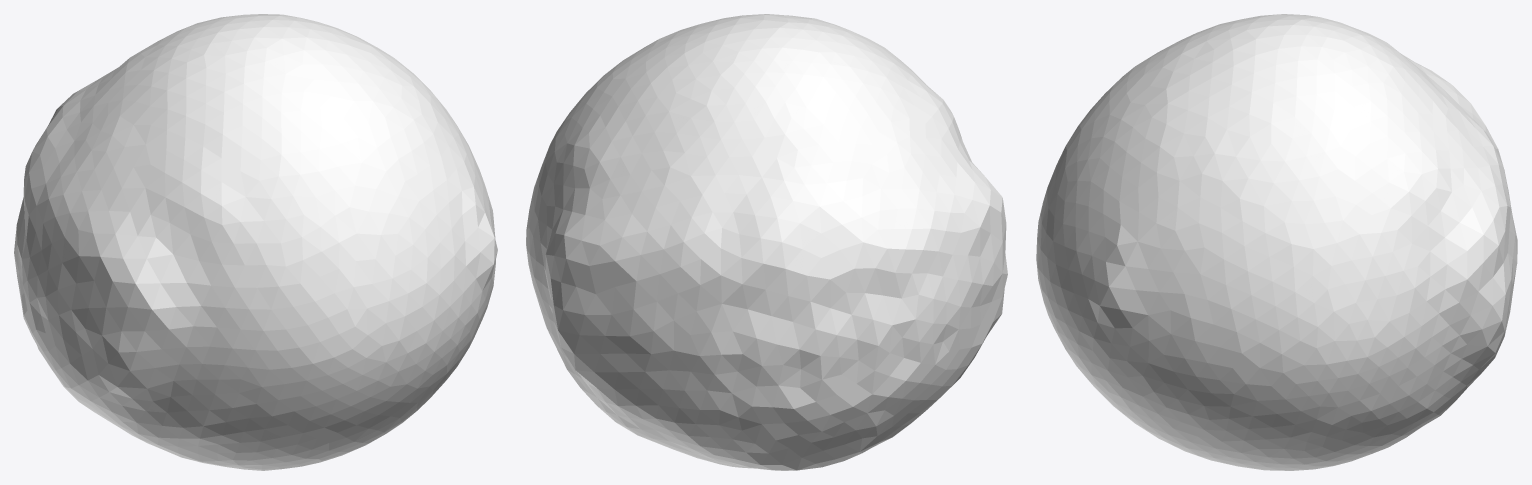
The model's file is plane_rotZ45[0.3,0.0,0.3]s1[-1.7,0.0,-1.7]_00010.obj.
The picture shows the model from 3 angles, left to right: view 1: azimuth 30°, elevation 25°; view 2: azimuth 150°, elevation 25°; view 3: azimuth 270°, elevation 25°; orthographic projection.
Size of the model in its own units: 0.9896 by 0.9506 by 0.9893.
Materials: 1 (1 with a texture image).
